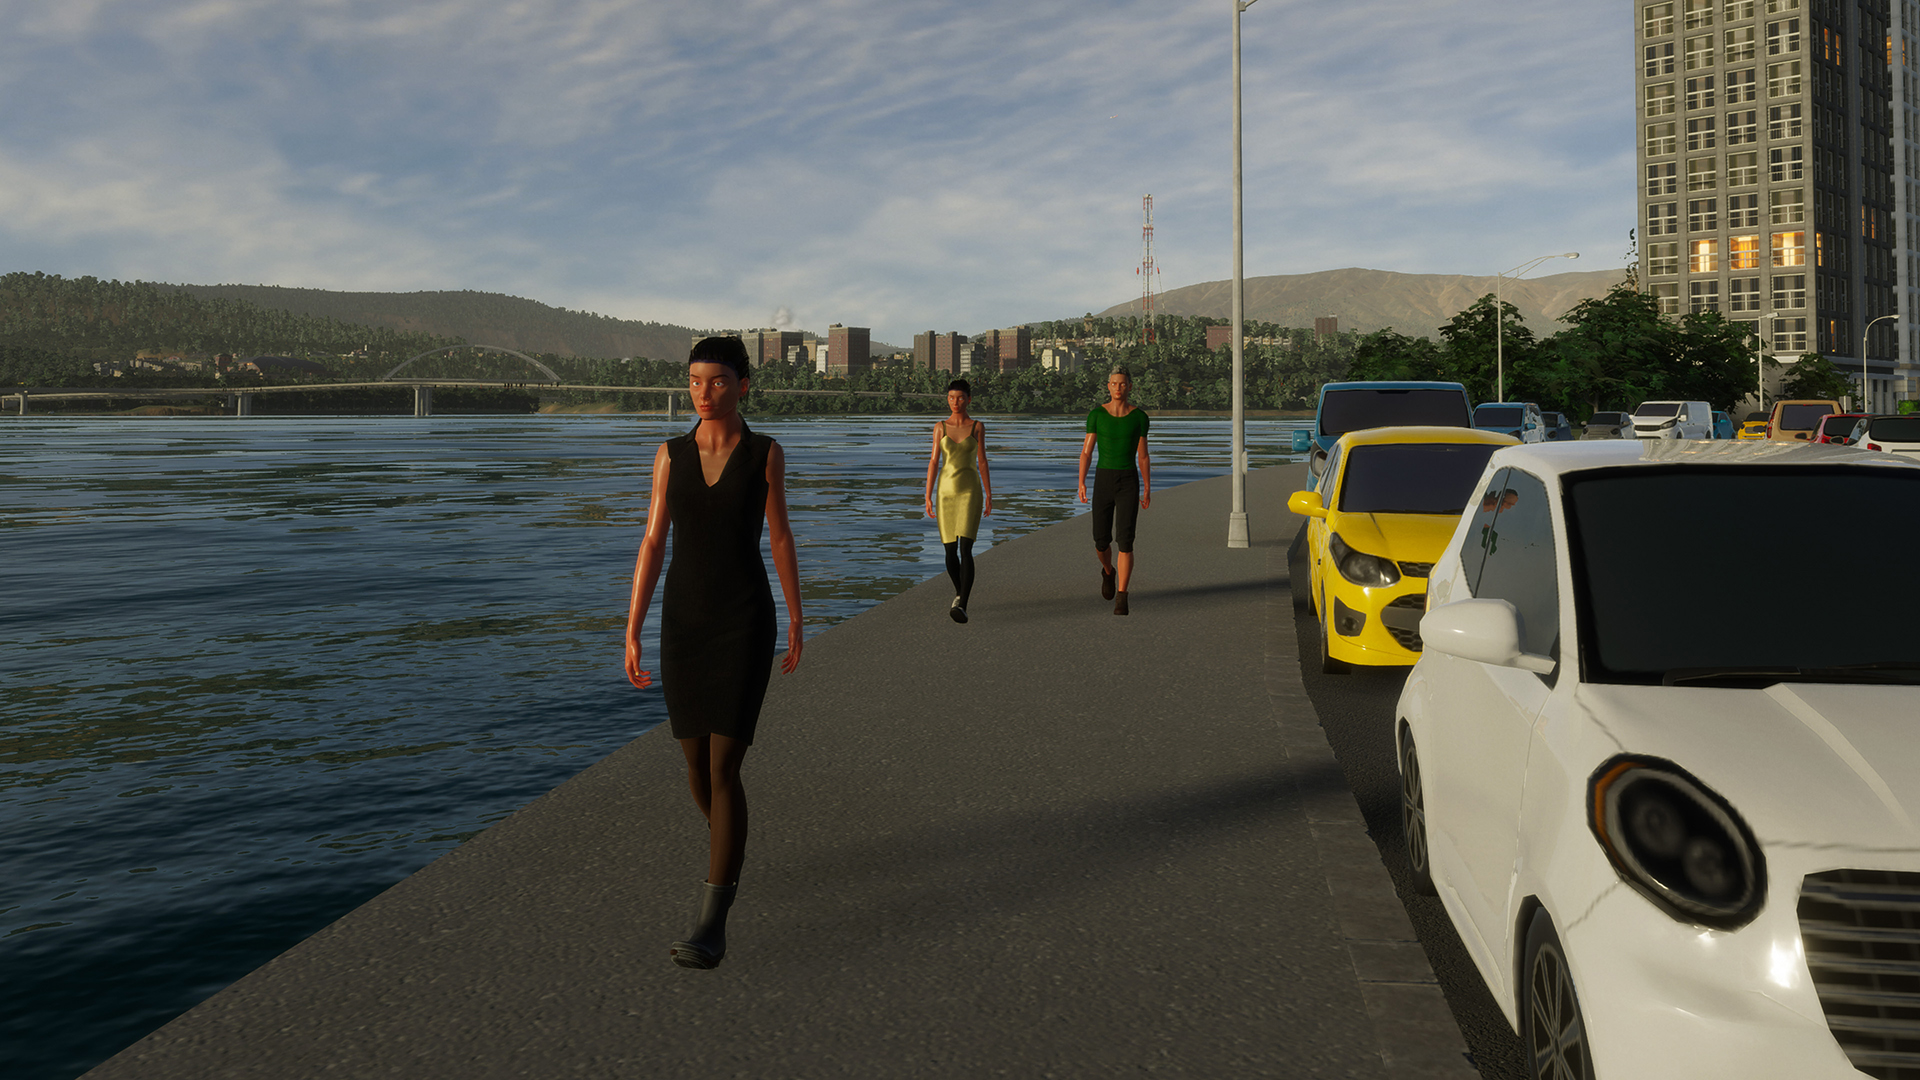person: (610, 322, 815, 965), (1077, 347, 1160, 619), (914, 372, 997, 632)
